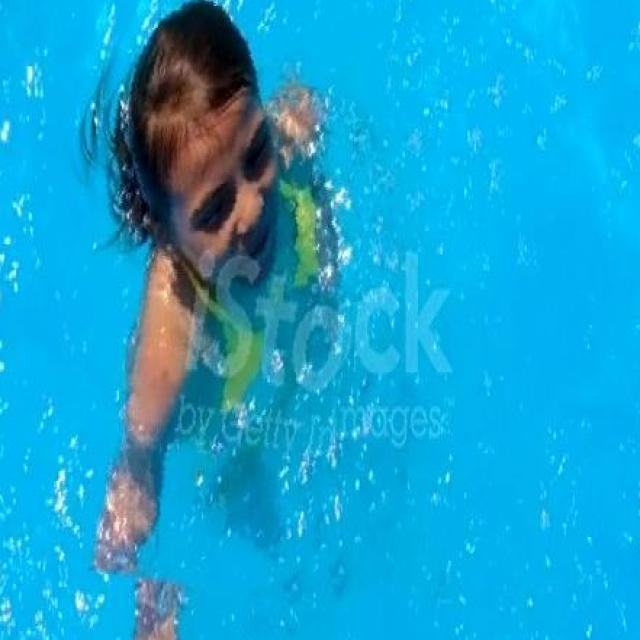Swimming: (67, 2, 350, 568)
